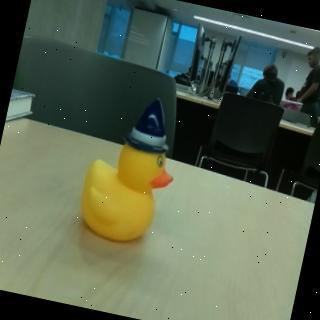duck_specialty: (73, 85, 191, 251)
